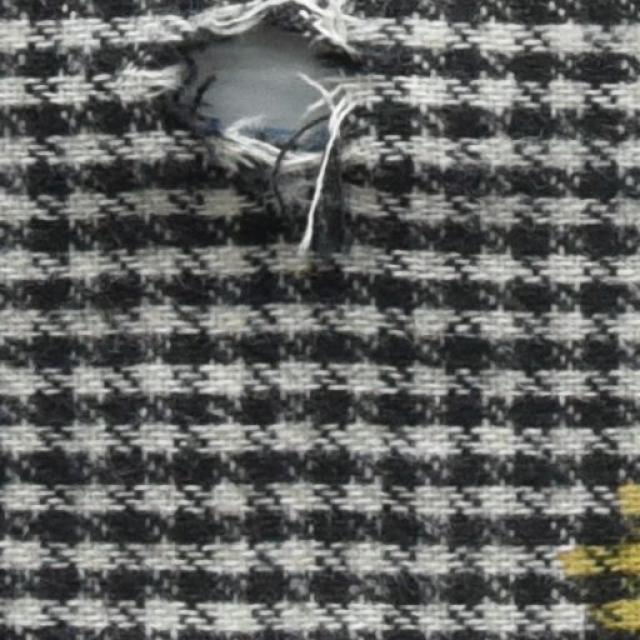Hole: (190, 29, 333, 137)
Snag: (261, 83, 368, 266), (182, 0, 387, 52)
Stain: (547, 482, 639, 639)
